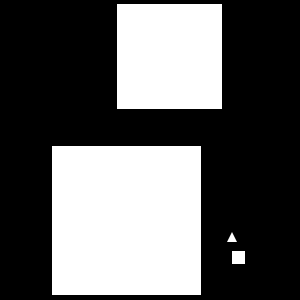circle: (52, 146, 201, 295), (117, 4, 222, 109), (232, 251, 245, 264)
triangle: (227, 232, 237, 242)
